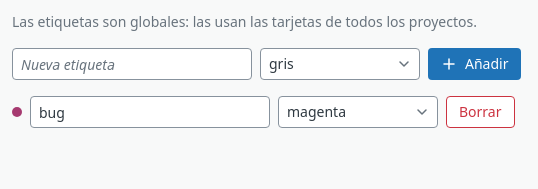
Scenario: Etiquetas (RF-23, 4.8) › RF-23: crea una etiqueta con nombre y color
Expected: the field named "Nombre de la etiqueta bug" is shown, [30,96,270,128]
Type "  infra " into the field named "Nombre de la nueva etiqueta".
click(132, 64); type("  infra ")  # box [12,48,252,80]
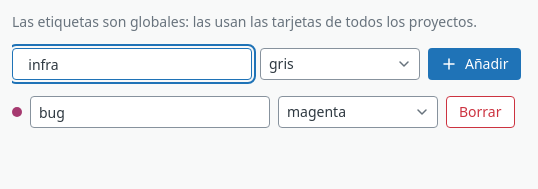
Select "turquesa" in the dropdown named "Color de la nueva etiqueta" at (340, 64), box [260,48,420,80]
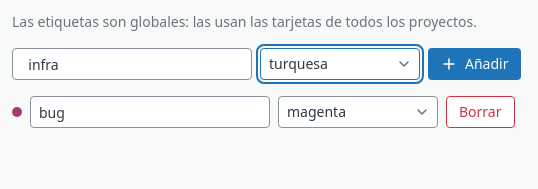
Click the button "Añadir".
click(475, 64)  # box [428,48,522,80]
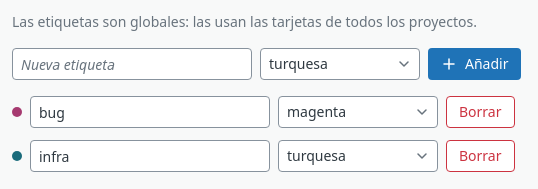
Expected: the field named "Nombre de la etiqueta infra" is shown, [30,140,270,172]
